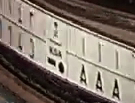1: (7, 0, 13, 46)
3: (27, 10, 37, 59)
4: (17, 4, 24, 54)
A: (94, 42, 105, 92), (111, 49, 121, 102), (80, 36, 88, 86)
